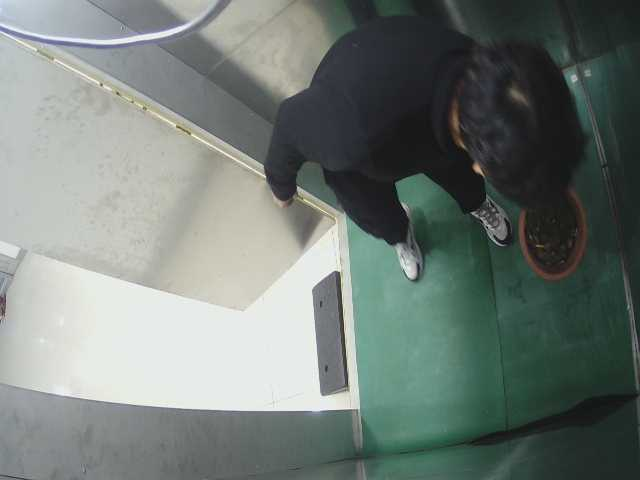flowerpot: (500, 188, 598, 282)
person: (261, 25, 570, 289)
